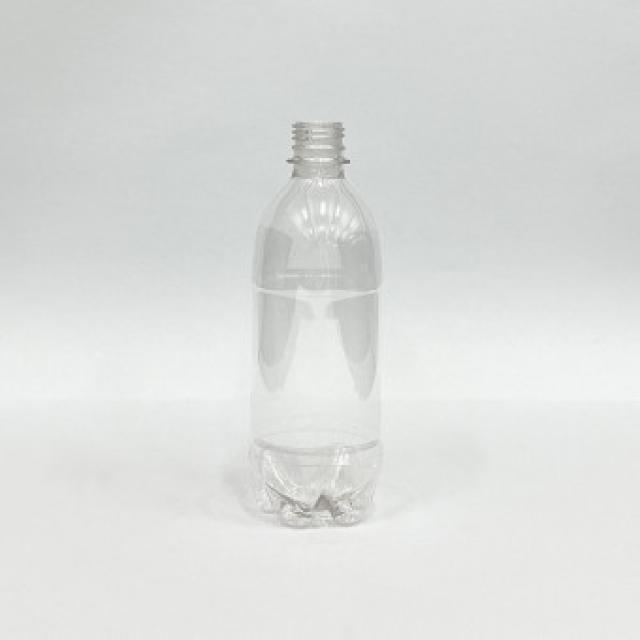plastic_bottle: (250, 120, 384, 529)
